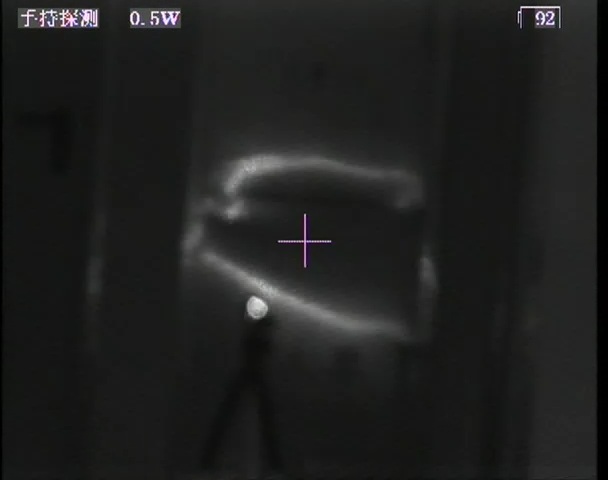my: (244, 293, 271, 319)
